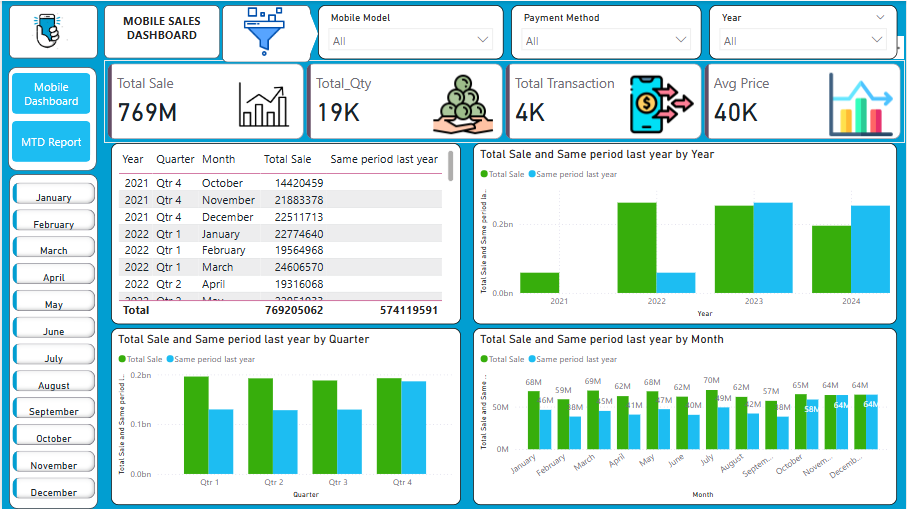

Layout of this report page (visuals, bound fields, positions):
{"tool":"powerbi","page":{"name":"Same Period Last Year","canvas":[1280,720],"ordinal":2},"visuals":[{"type":"shape","box":[10,5.7,125.7,75.7],"z":0},{"type":"image","box":[26,5,77,77],"z":1000},{"type":"shape","box":[8.6,92.9,125.7,147.1],"z":2000},{"type":"cardVisual","fields":{"Data":["Mobile_sale_Dashboard.Total Sale","Mobile_sale_Dashboard.Total_Qty","Mobile_sale_Dashboard.Total Transaction","Mobile_sale_Dashboard.Avg Price"]},"box":[144.3,84.3,1135.7,117.1],"z":3000},{"type":"slicer","fields":{"Values":["Mobile_sale_Dashboard.Mobile Model"]},"box":[448.6,5.7,262.9,77.1],"z":4000},{"type":"slicer","fields":{"Values":["Mobile_sale_Dashboard.Payment Method"]},"box":[721.4,5.7,270,77.1],"z":5000},{"type":"slicer","fields":{"Values":["Custom Calender.Date.Variation.Date Hierarchy.Year"]},"box":[1001.4,5.7,267.1,77.1],"z":6000},{"type":"shape","box":[311.4,5.7,125.7,81.4],"z":7000},{"type":"image","box":[288.6,2.9,165.7,81.4],"z":8000},{"type":"shape","box":[417.1,5.7,31.4,81.4],"z":9000},{"type":"shape","box":[144.3,5.7,164.3,75.7],"z":10000},{"type":"textbox","box":[164.3,11.4,124.3,64.3],"z":11000},{"type":"tableEx","fields":{"Values":["Custom Calender.Date.Variation.Date Hierarchy.Year","Custom Calender.Date.Variation.Date Hierarchy.Quarter","Custom Calender.Date.Variation.Date Hierarchy.Month","Mobile_sale_Dashboard.Total Sale","Mobile_sale_Dashboard.Same period last year"]},"box":[154.5,201.3,496.1,256.5],"z":12000},{"type":"shape","box":[9.9,245.2,126.1,474.8],"z":13000},{"type":"advancedSlicerVisual","fields":{"Values":["Custom Calender.Date.Variation.Date Hierarchy.Month"]},"box":[9.9,252.3,127.6,462],"z":14000},{"type":"clusteredColumnChart","fields":{"Y":["Mobile_sale_Dashboard.Total Sale","Mobile_sale_Dashboard.Same period last year"],"Category":["Custom Calender.Date.Variation.Date Hierarchy.Year"]},"box":[667.6,201.3,600.9,256.5],"z":14001},{"type":"clusteredColumnChart","fields":{"Category":["Custom Calender.Date.Variation.Date Hierarchy.Quarter","Custom Calender.Date.Variation.Date Hierarchy.Month"],"Y":["Mobile_sale_Dashboard.Total Sale","Mobile_sale_Dashboard.Same period last year"]},"box":[154.5,463.5,496.1,250.9],"z":14002},{"type":"clusteredColumnChart","fields":{"Category":["Custom Calender.Date.Variation.Date Hierarchy.Year","Custom Calender.Date.Variation.Date Hierarchy.Quarter","Custom Calender.Date.Variation.Date Hierarchy.Month"],"Y":["Mobile_sale_Dashboard.Total Sale","Mobile_sale_Dashboard.Same period last year"]},"box":[667.6,463.5,600.9,250.9],"z":14003},{"type":"pageNavigator","box":[14.2,102,112,126.1],"z":14004}]}

Visuals, with their boxes in screenshot pixels (x1, y1, x2, y2), scaled from the page's 1280x720 canvas onto the 907x509 screenshot:
shape: bbox=(7, 4, 96, 58)
image: bbox=(18, 4, 73, 58)
shape: bbox=(6, 66, 95, 170)
cardVisual - Mobile_sale_Dashboard.Total Sale x Mobile_sale_Dashboard.Total_Qty: bbox=(102, 60, 906, 142)
slicer - Mobile_sale_Dashboard.Mobile Model: bbox=(318, 4, 504, 59)
slicer - Mobile_sale_Dashboard.Payment Method: bbox=(511, 4, 702, 59)
slicer - Custom Calender.Date.Variation.Date Hierarchy.Year: bbox=(710, 4, 899, 59)
shape: bbox=(221, 4, 310, 62)
image: bbox=(205, 2, 322, 60)
shape: bbox=(296, 4, 318, 62)
shape: bbox=(102, 4, 219, 58)
textbox: bbox=(116, 8, 205, 54)
tableEx - Custom Calender.Date.Variation.Date Hierarchy.Year x Custom Calender.Date.Variation.Date Hierarchy.Quarter: bbox=(109, 142, 461, 324)
shape: bbox=(7, 173, 96, 508)
advancedSlicerVisual - Custom Calender.Date.Variation.Date Hierarchy.Month: bbox=(7, 178, 97, 505)
clusteredColumnChart - Mobile_sale_Dashboard.Total Sale x Mobile_sale_Dashboard.Same period last year: bbox=(473, 142, 899, 324)
clusteredColumnChart - Custom Calender.Date.Variation.Date Hierarchy.Quarter x Custom Calender.Date.Variation.Date Hierarchy.Month: bbox=(109, 328, 461, 505)
clusteredColumnChart - Custom Calender.Date.Variation.Date Hierarchy.Year x Custom Calender.Date.Variation.Date Hierarchy.Quarter: bbox=(473, 328, 899, 505)
pageNavigator: bbox=(10, 72, 89, 161)
